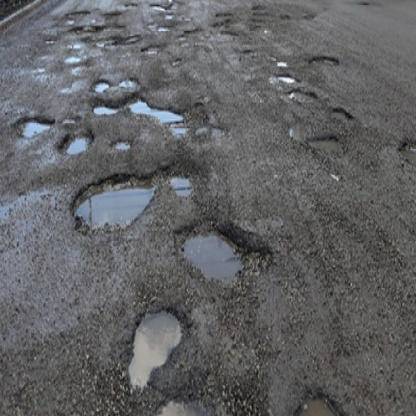pothole: (159, 214, 276, 295), (108, 295, 193, 394), (62, 164, 169, 237), (124, 85, 198, 131), (158, 160, 211, 204), (13, 108, 60, 144), (57, 126, 97, 161), (87, 100, 127, 118), (305, 52, 344, 70), (270, 71, 306, 88), (89, 78, 116, 98), (112, 139, 134, 153)
